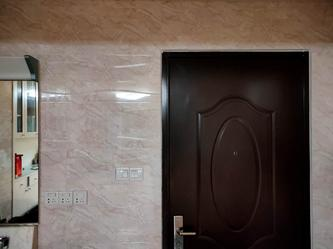switch: (130, 169, 143, 182), (115, 169, 128, 180)
